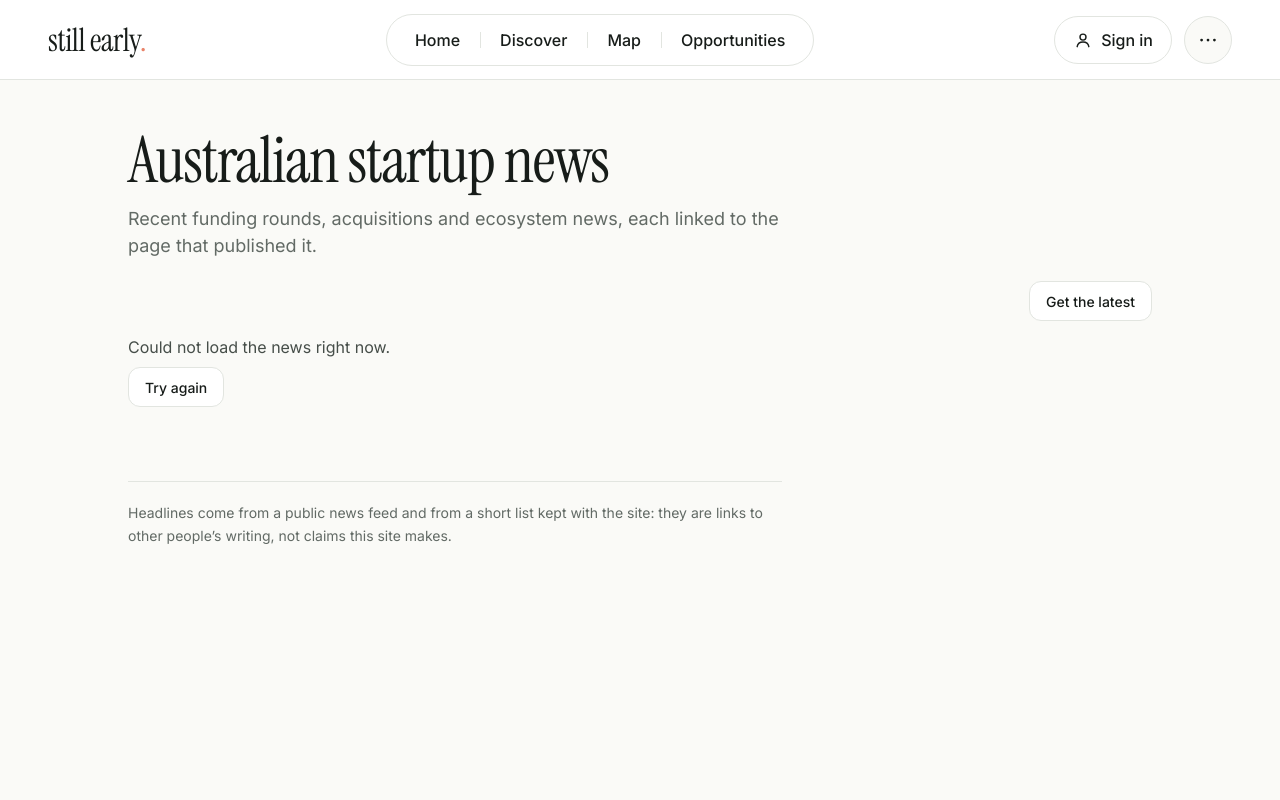
Test: NewsPage › says so, and offers to try again, when the news cannot be had
Expected: the text "Could not load the news right now." is shown, [128,337,390,357]
Click the button "Try again" at (176, 387), box [128,367,224,407]
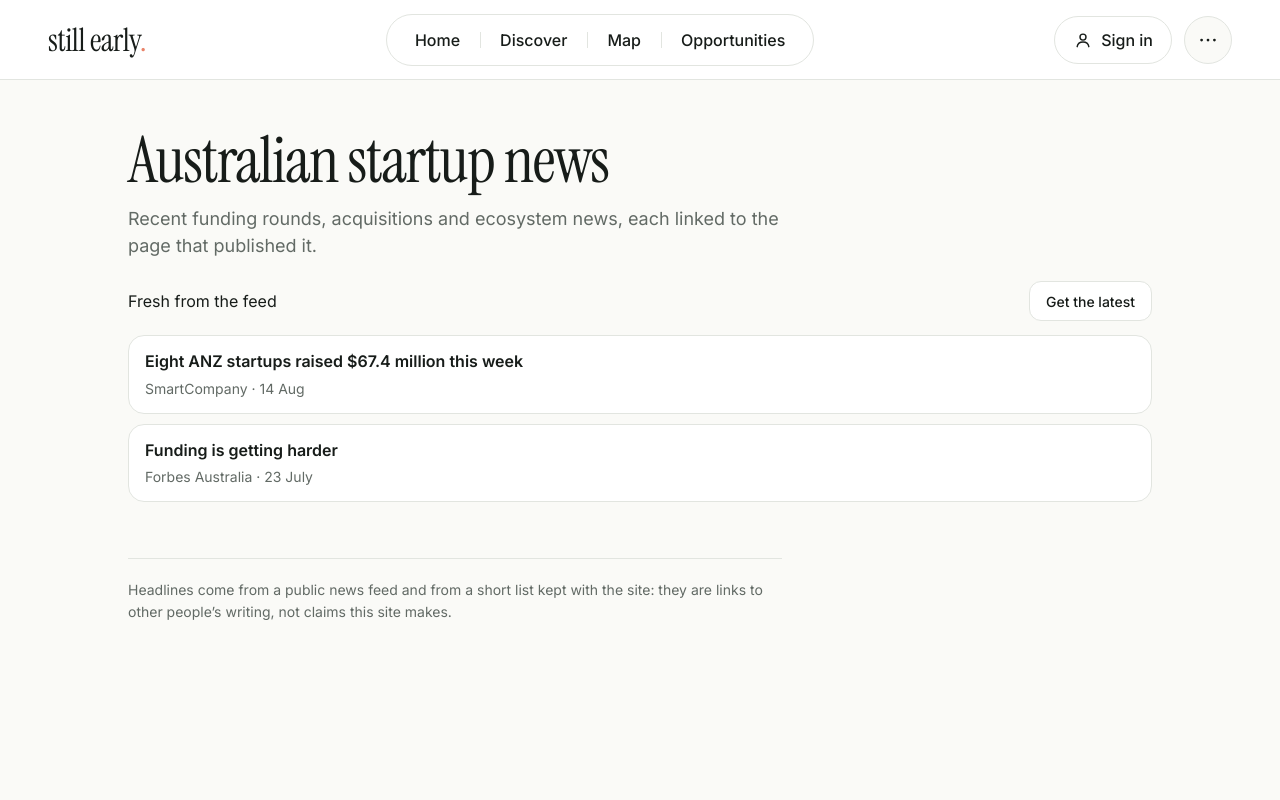
Result: the link "Eight ANZ startups raised" is shown at [128,335,1152,414]
